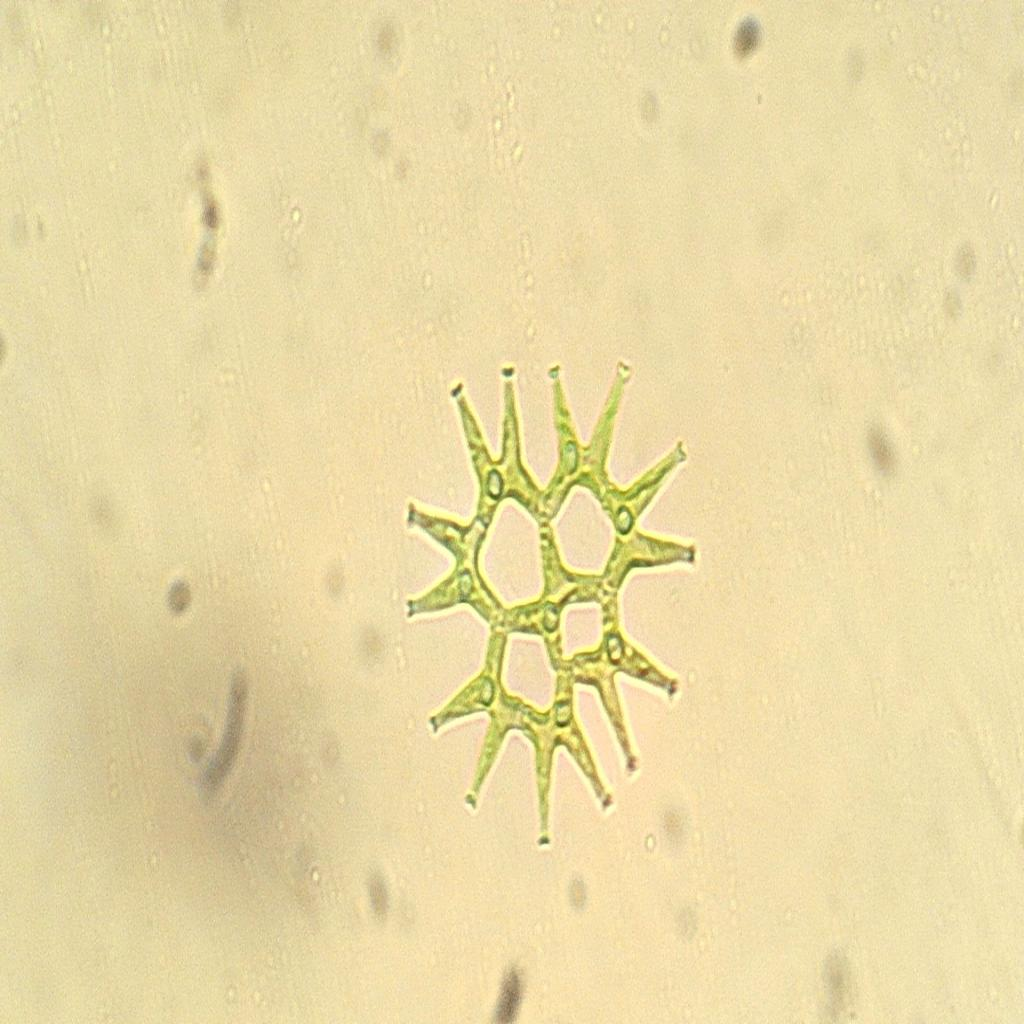Pediastrum_75T: (380, 320, 721, 860)
